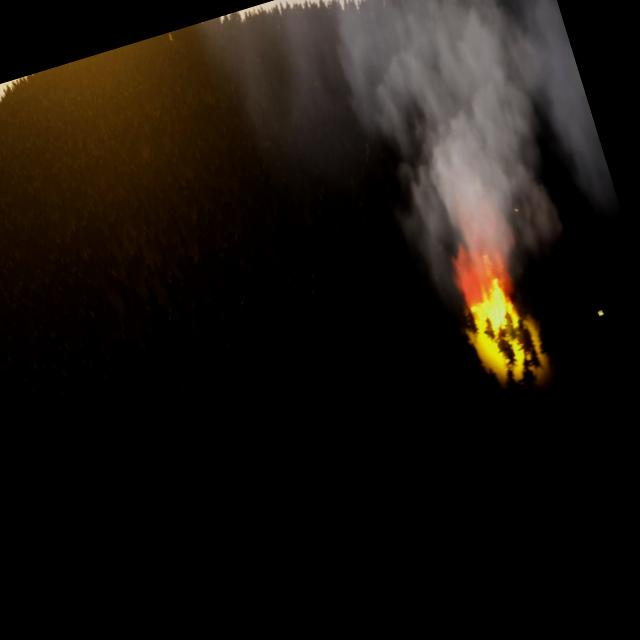fire: (460, 270, 532, 363)
smoke: (188, 0, 635, 364)
